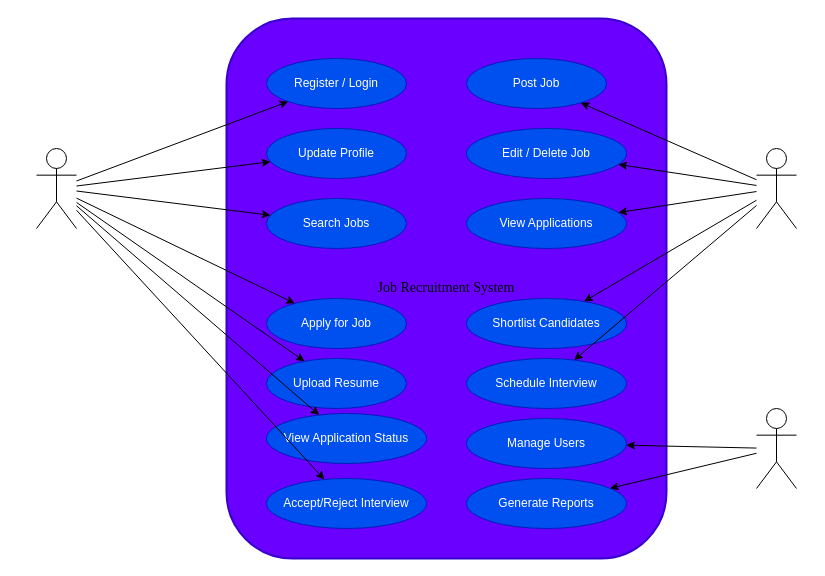
The diagram is 825 pixels wide and 576 high, and some of its shapes have lost their labels. The shapes that lost their labels are listed below. From the top down, each one's centre as x and y in pixels, then its label:
At (56,188): "Job Seeker".
At (776,188): "Employer".
At (776,448): "Admin".
